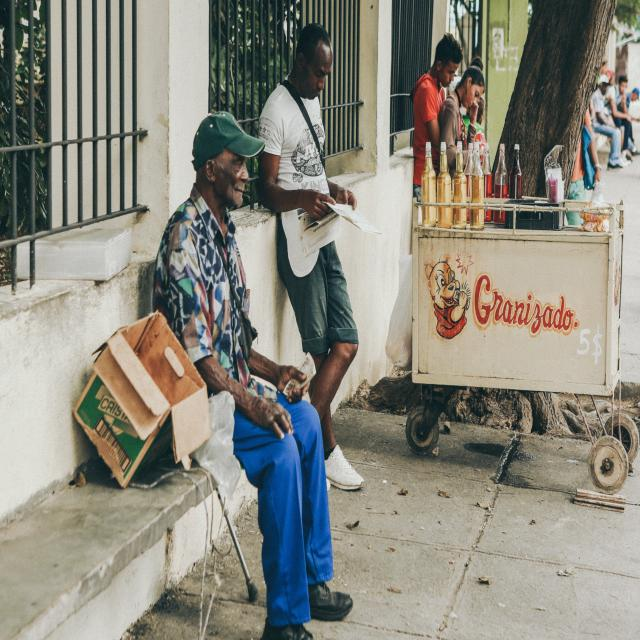Concrete: (0, 0, 210, 521), (310, 412, 640, 640), (0, 468, 221, 640), (335, 0, 412, 395), (235, 210, 304, 367)
